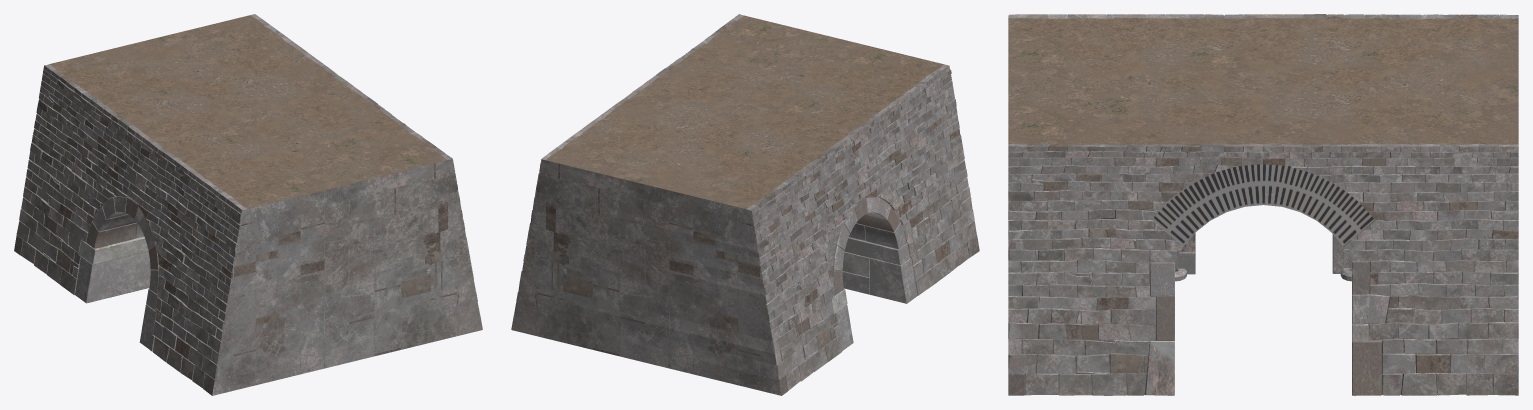
File: SM_Dark_Gate04a.fbx
3 views of the same model, side by side, from view 1: azimuth 30°, elevation 25°; view 2: azimuth 150°, elevation 25°; view 3: azimuth 270°, elevation 25° (orthographic). The views are drawn at different scales.
Parts seen in each view (by area): view 1: SM_Dark_Gate04a; view 2: SM_Dark_Gate04a; view 3: SM_Dark_Gate04a.
Part boxes in pixels (x1=…): SM_Dark_Gate04a: x1=14, y1=14, x2=482, y2=395; SM_Dark_Gate04a: x1=511, y1=14, x2=979, y2=395; SM_Dark_Gate04a: x1=1008, y1=14, x2=1518, y2=395.
Size of the model in its own units: 635 by 800 by 398.
Materials: 3 (3 with a texture image).
